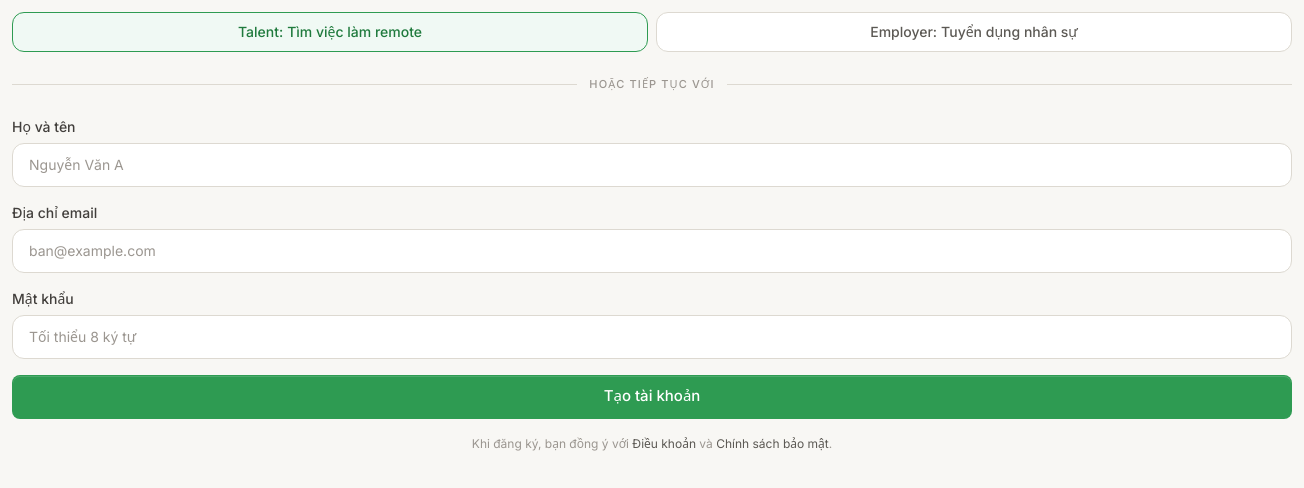
Scenario: RegisterForm Name Validation › displays validation warning immediately when typing a 1-character name without submitting (Vietnamese)
The width and height of the screenshot is (1304, 488).
Type "A" into the field labelled "Họ và tên". click: (652, 164)
box: [12,142,1292,186]
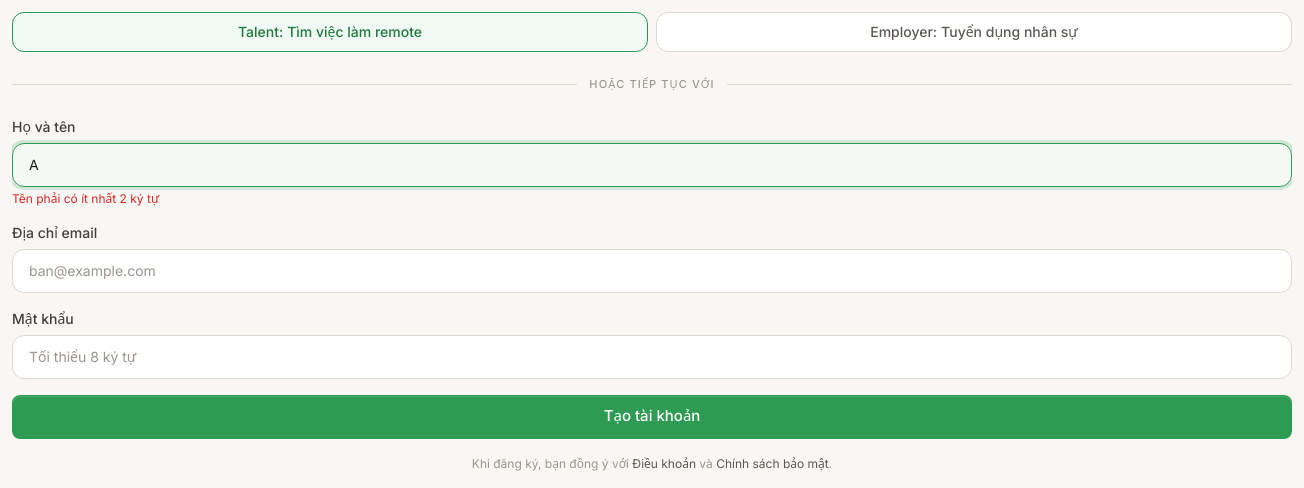
Check: the text "Tên phải có ít nhất 2 ký tự" is shown, box [12,190,159,206]
Note: When user types another character to reach 2 characters, warning disappears
Type "n" into the field labelled "Họ và tên". click: (652, 164)
box: [12,142,1292,186]
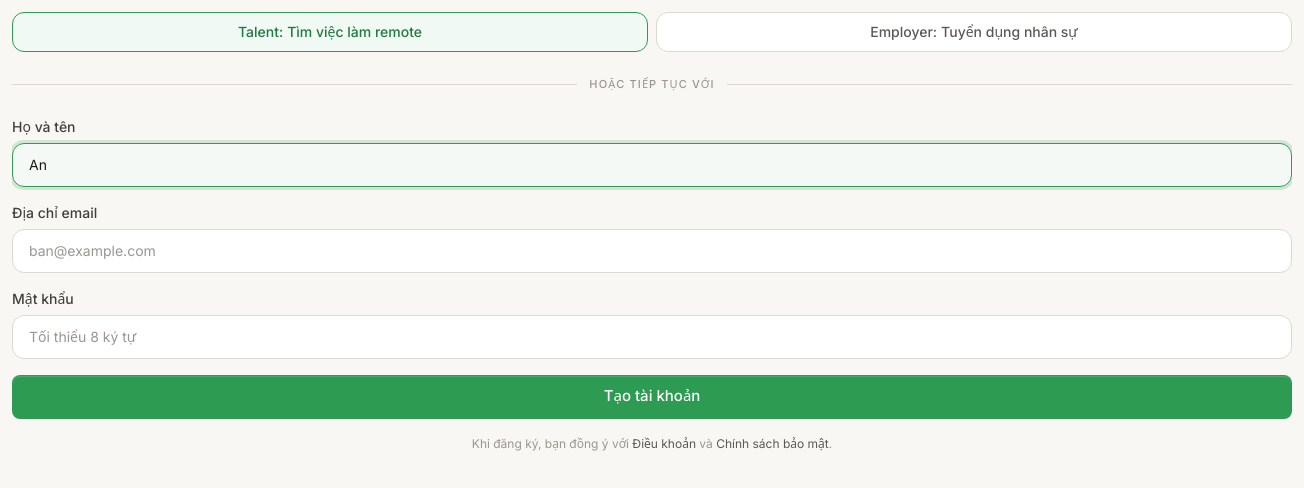
Check: the text "Tên phải có ít nhất 2 ký tự" is gone
